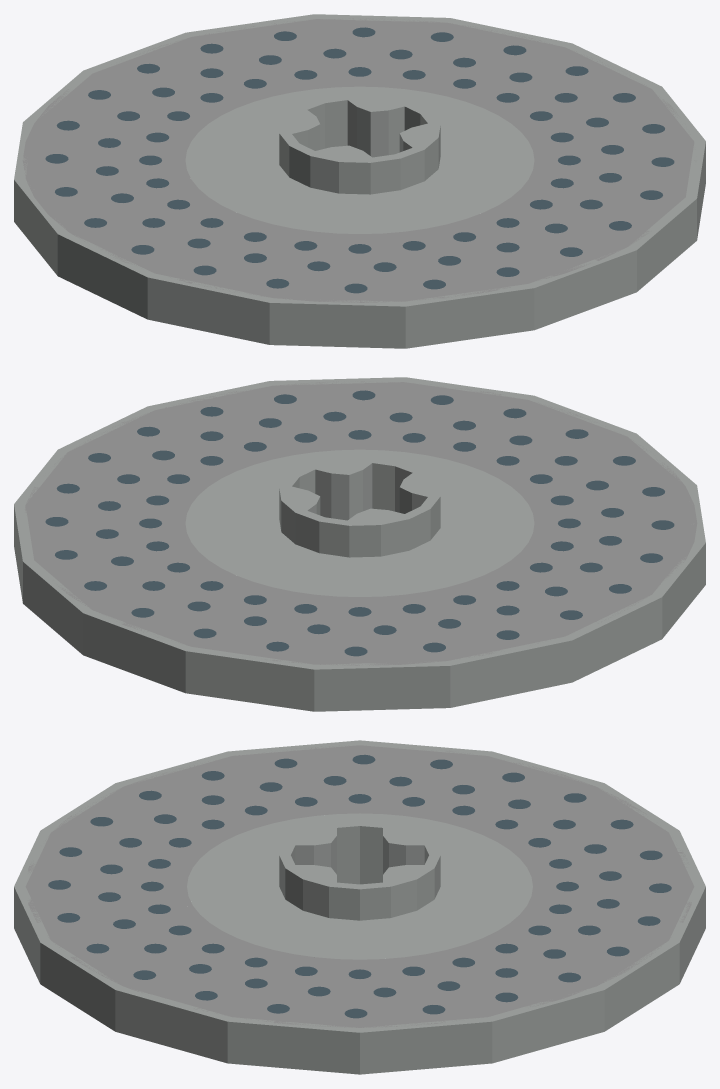
3 renders of one model, top to bottom at view 1: azimuth 30°, elevation 25°; view 2: azimuth 150°, elevation 25°; view 3: azimuth 270°, elevation 25°, orthographic.
Visible parts, largest first — view 1: world; view 2: world; view 3: world.
Boxes of the visible parts, x1,y1,x2,y2 form: world: (14,14,705,348); world: (14,377,705,711); world: (14,740,705,1074).
Size of the model in its own units: 0.024 by 0.004 by 0.024.
